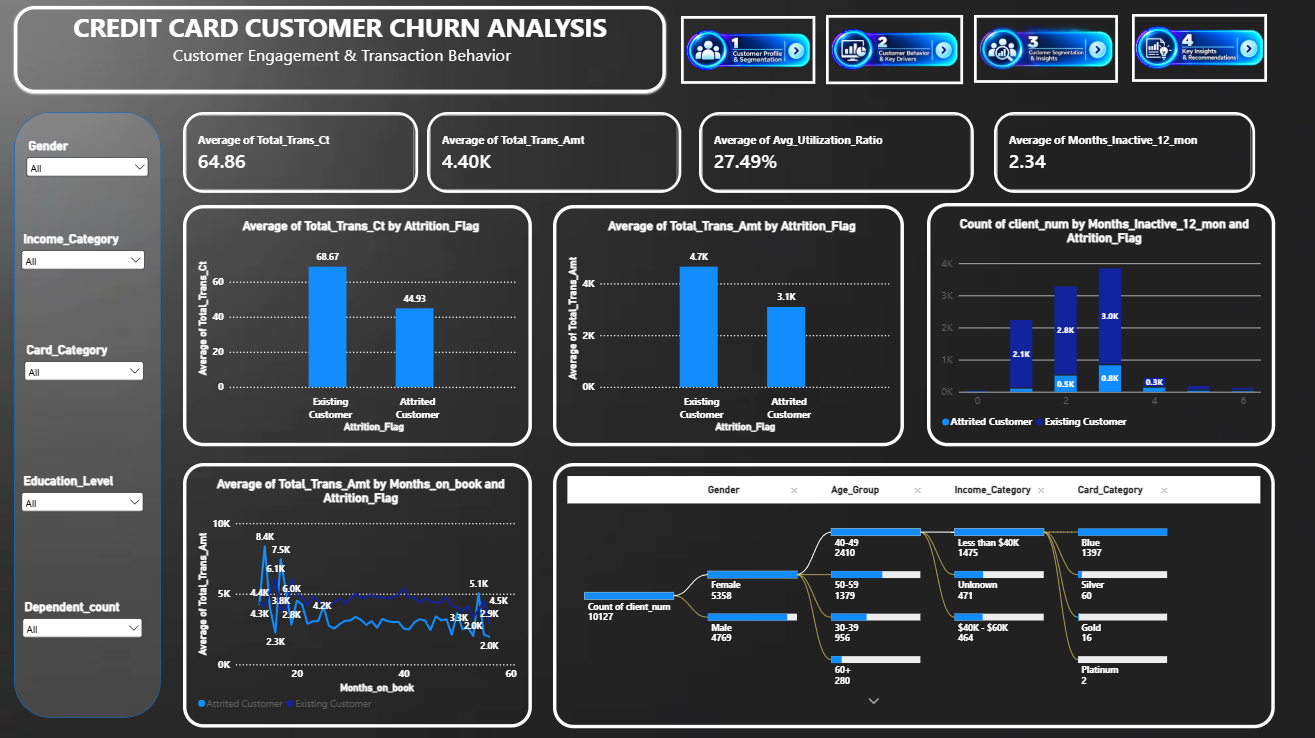

Layout of this report page (visuals, bound fields, positions):
{"tool":"powerbi","page":{"name":" Page 2","canvas":[1920,1080],"ordinal":1},"visuals":[{"type":"textbox","box":[21.9,10.2,951.2,126.9],"z":0},{"type":"image","box":[995,24.8,195.5,99.2],"z":1000},{"type":"image","box":[1207.1,22.9,199.9,100.7],"z":2000},{"type":"image","box":[1422.9,22.9,210.1,99.2],"z":3000},{"type":"image","box":[1652.9,21.4,197,99.2],"z":4000},{"type":"shape","box":[21.9,164.9,214.5,884.1],"z":5000},{"type":"slicer","fields":{"Values":["banking_db credit_card_churn.Gender"]},"box":[35,202.8,188.2,159],"z":6000},{"type":"slicer","fields":{"Values":["banking_db credit_card_churn.Income_Category"]},"box":[27.7,338.5,189.7,148.8],"z":7000},{"type":"slicer","fields":{"Values":["banking_db credit_card_churn.Card_Category"]},"box":[32.1,500.4,183.8,176.5],"z":8000},{"type":"slicer","fields":{"Values":["banking_db credit_card_churn.Education_Level"]},"box":[27.7,691.6,188.2,159],"z":9000},{"type":"slicer","fields":{"Values":["banking_db credit_card_churn.Dependent_count"]},"box":[29.2,875.4,185.3,163.4],"z":10000},{"type":"cardVisual","fields":{"Data":["Avg(banking_db credit_card_churn.Total_Trans_Ct)"]},"box":[268.4,164.9,342.9,118.2],"z":11000},{"type":"cardVisual","fields":{"Data":["Avg(banking_db credit_card_churn.Total_Trans_Amt)"]},"box":[624.3,164.3,370.6,118.2],"z":12000},{"type":"cardVisual","fields":{"Data":["Avg(banking_db credit_card_churn.Avg_Utilization_Ratio)"]},"box":[1021.4,164.3,401.2,118.2],"z":13000},{"type":"cardVisual","fields":{"Data":["Avg(banking_db credit_card_churn.Months_Inactive_12_mon)"]},"box":[1451.4,164.3,380.8,118.2],"z":14000},{"type":"clusteredColumnChart","fields":{"Category":["banking_db credit_card_churn.Attrition_Flag"],"Y":["Avg(banking_db credit_card_churn.Total_Trans_Ct)"]},"box":[268.4,300.5,509.2,351.6],"z":15000},{"type":"clusteredColumnChart","fields":{"Category":["banking_db credit_card_churn.Attrition_Flag"],"Y":["Avg(banking_db credit_card_churn.Total_Trans_Amt)"]},"box":[808.3,300.5,512.1,351.6],"z":16000},{"type":"columnChart","fields":{"Category":["banking_db credit_card_churn.Months_Inactive_12_mon"],"Series":["banking_db credit_card_churn.Attrition_Flag"],"Y":["Count(banking_db credit_card_churn.client_num)"]},"box":[1353.9,297.6,507.7,354.5],"z":17000},{"type":"lineChart","fields":{"Category":["banking_db credit_card_churn.Months_on_book"],"Series":["banking_db credit_card_churn.Attrition_Flag"],"Y":["Avg(banking_db credit_card_churn.Total_Trans_Amt)"]},"box":[268.4,677,509,386],"z":18000},{"type":"decompositionTreeVisual","fields":{"Analyze":["Count(banking_db credit_card_churn.client_num)"],"ExplainBy":["banking_db credit_card_churn.Gender","banking_db credit_card_churn.Age_Group","banking_db credit_card_churn.Income_Category","banking_db credit_card_churn.Card_Category"]},"box":[808.3,677,1053.4,386.6],"z":19000}]}

Visuals, with their boxes in screenshot pixels (x1, y1, x2, y2), scaled from the page's 1920x1080 canvas onto the 1315x738 screenshot:
textbox: x1=15, y1=7, x2=666, y2=94
image: x1=681, y1=17, x2=815, y2=85
image: x1=827, y1=16, x2=964, y2=84
image: x1=975, y1=16, x2=1118, y2=83
image: x1=1132, y1=15, x2=1267, y2=82
shape: x1=15, y1=113, x2=162, y2=717
slicer - banking_db credit_card_churn.Gender: x1=24, y1=139, x2=153, y2=247
slicer - banking_db credit_card_churn.Income_Category: x1=19, y1=231, x2=149, y2=333
slicer - banking_db credit_card_churn.Card_Category: x1=22, y1=342, x2=148, y2=463
slicer - banking_db credit_card_churn.Education_Level: x1=19, y1=473, x2=148, y2=581
slicer - banking_db credit_card_churn.Dependent_count: x1=20, y1=598, x2=147, y2=710
cardVisual - Avg(banking_db credit_card_churn.Total_Trans_Ct): x1=184, y1=113, x2=419, y2=193
cardVisual - Avg(banking_db credit_card_churn.Total_Trans_Amt): x1=428, y1=112, x2=681, y2=193
cardVisual - Avg(banking_db credit_card_churn.Avg_Utilization_Ratio): x1=700, y1=112, x2=974, y2=193
cardVisual - Avg(banking_db credit_card_churn.Months_Inactive_12_mon): x1=994, y1=112, x2=1255, y2=193
clusteredColumnChart - banking_db credit_card_churn.Attrition_Flag x Avg(banking_db credit_card_churn.Total_Trans_Ct): x1=184, y1=205, x2=533, y2=446
clusteredColumnChart - banking_db credit_card_churn.Attrition_Flag x Avg(banking_db credit_card_churn.Total_Trans_Amt): x1=554, y1=205, x2=904, y2=446
columnChart - banking_db credit_card_churn.Months_Inactive_12_mon x banking_db credit_card_churn.Attrition_Flag: x1=927, y1=203, x2=1275, y2=446
lineChart - banking_db credit_card_churn.Months_on_book x banking_db credit_card_churn.Attrition_Flag: x1=184, y1=463, x2=532, y2=726
decompositionTreeVisual - Count(banking_db credit_card_churn.client_num) x banking_db credit_card_churn.Gender: x1=554, y1=463, x2=1275, y2=727
